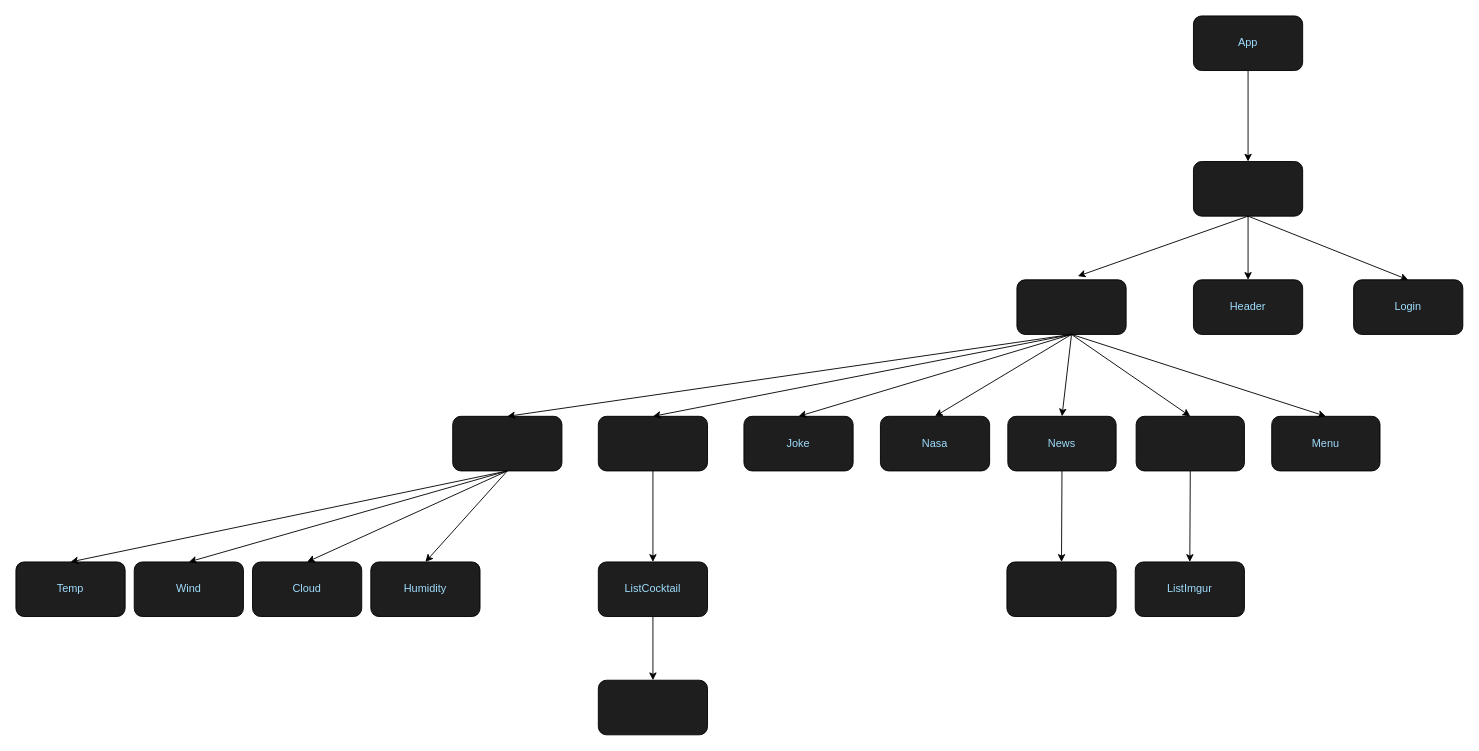
This 1479x751 diagram has some shape labels left out. Here are the shapes that lost their labels. From the top down, the centre of each, then its label:
the point at 1248,188: Home
the point at 1071,306: Contenu
the point at 507,443: Weather
the point at 652,443: Cocktail
the point at 1189,443: Imgur
the point at 1061,589: ListOfNews
the point at 652,707: CocktailDetail
